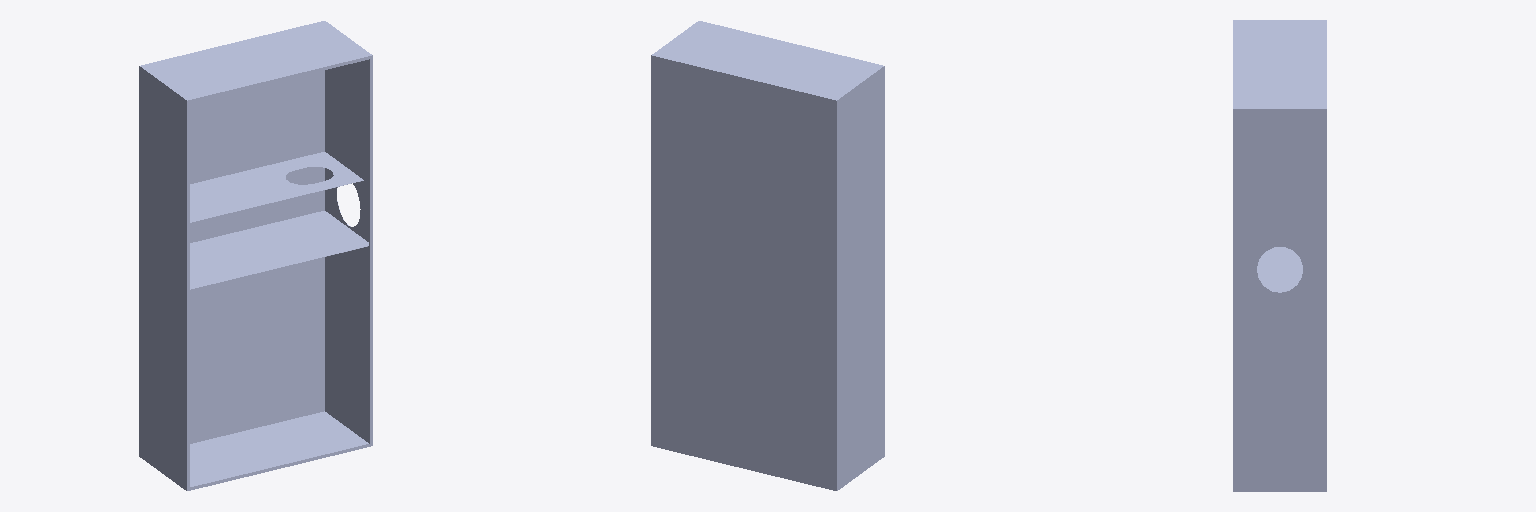
robot.urdf — model_env:
<?xml version="1.0" encoding="utf-8"?>
<!-- This URDF was automatically created by SolidWorks to URDF Exporter! Originally created by [author] ([email redacted]) 
     Commit Version: 1.6.0-4-g7f85cfe  Build Version: 1.6.7995.38578
     For more information, please see http://wiki.ros.org/sw_urdf_exporter -->
<robot name="model_env">

    <link name="world"> 
    </link>

    <link name="model_env">
        <inertial>
            <origin xyz="-0.0037075 0.073715 0.90598" rpy="0 0 0" />
            <mass value="4.1887" />
            <inertia ixx="1.5365" ixy="-0.001145" ixz="0.0022371" iyy="1.9365" iyz="0.0003085" izz="0.5568" />
        </inertial>
        <visual>
            <origin xyz="0 0 0" rpy="0 0 0" />
            <geometry>
                <mesh filename="package://pos_kinematic_ctrl/meshes/model_env.STL" />
            </geometry>
            <material name="">
                <color rgba="0.79216 0.81961 0.93333 1" />
            </material>
        </visual>
        <collision>
            <origin xyz="0 0 0" rpy="0 0 0" />
            <geometry>
                <mesh filename="package://pos_kinematic_ctrl/meshes/model_env.STL" />
            </geometry>
        </collision>
    </link>

    <joint name="fixed" type="fixed">
        <parent link="world"/>
        <child link="model_env"/>
    </joint>

</robot>

--- What the picture shows (computed from the rendered views, not written in the file) ---
The picture shows the robot from 3 angles, left to right: view 1: azimuth 30°, elevation 25°; view 2: azimuth 150°, elevation 25°; view 3: azimuth 270°, elevation 25°; orthographic projection.
Model model_env with 2 links and 1 joints (1 fixed), rooted at world, posed every joint at zero.
Links seen in each view (by area): view 1: model_env; view 2: model_env; view 3: model_env.
Link boxes in pixels (<box>): model_env: <box>139,21,372,490</box>; model_env: <box>651,21,884,490</box>; model_env: <box>1233,20,1326,491</box>.
Bounding box of the posed robot: 0.9 × 0.4 × 1.81 m (x, y, z).
Meshes: 1 distinct files referenced, 1 mesh visuals loaded (1 binary STL).